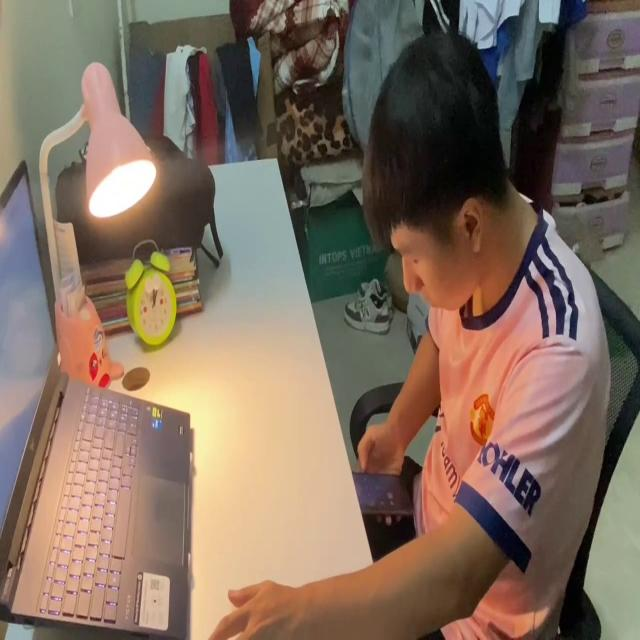laptop: (0, 155, 196, 640)
phone: (348, 462, 414, 521)
student: (212, 37, 610, 640)
